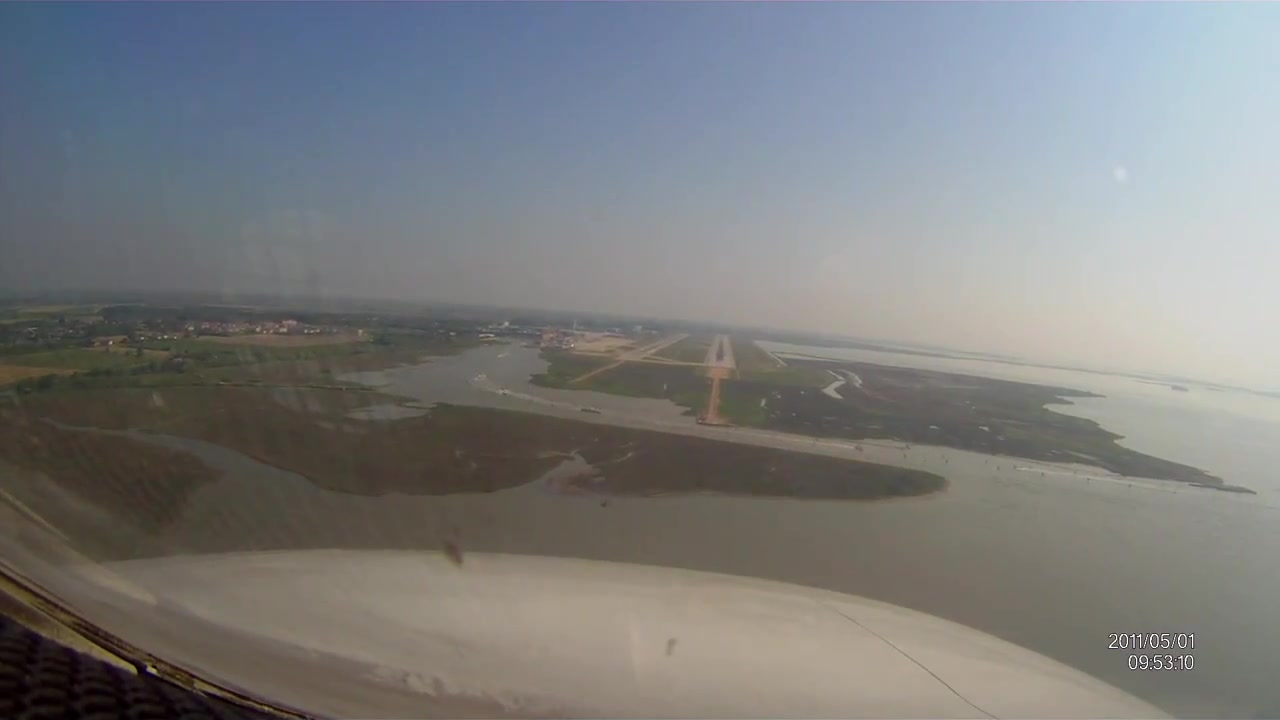runway: (616, 329, 692, 358), (700, 335, 737, 370)
